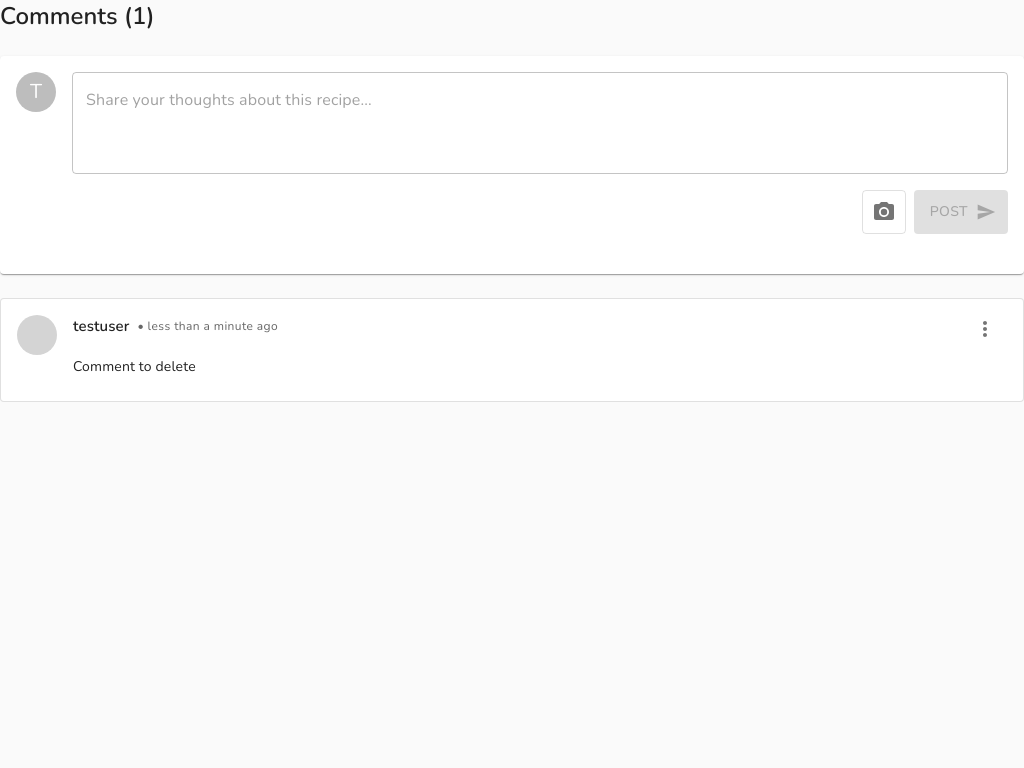
Test: CommentsSection Component › Edit and Delete Comments › should handle delete comment error when response is not ok - lines 223-225
Expected: the text "Comment to delete" is shown, [73,357,196,376]
Click the button without text in the row of "less than a minute ago". click: (985, 329)
box: [963,307,1007,351]
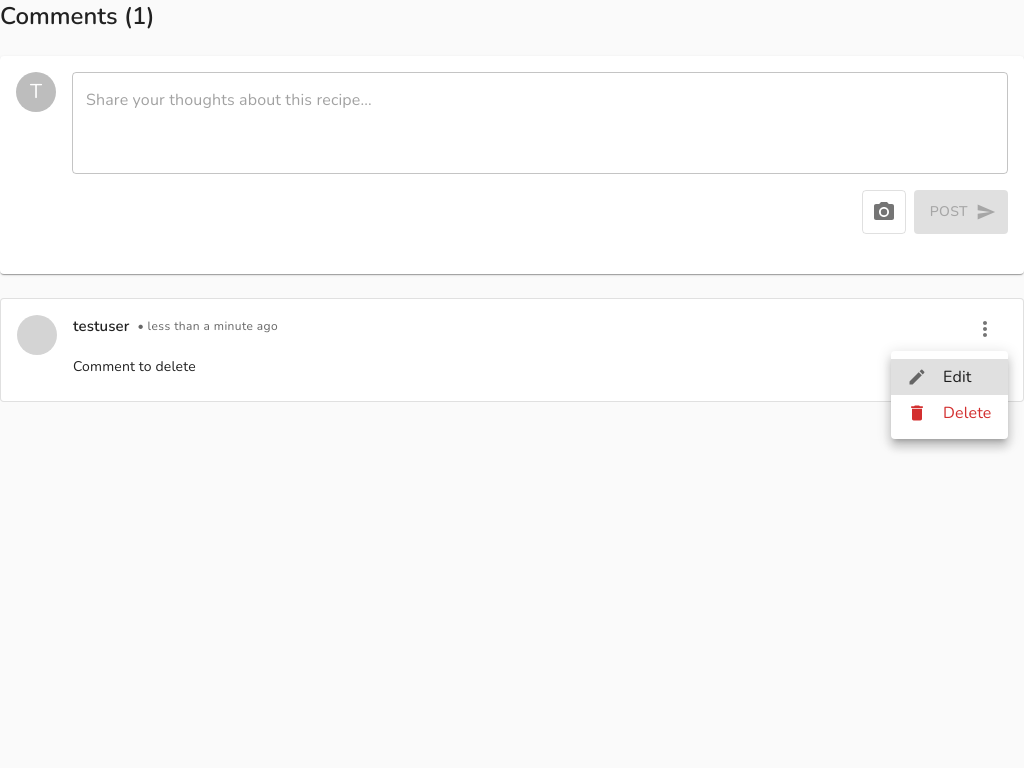
Click the menu item "Delete". click: (949, 413)
box: [907,402,992,424]
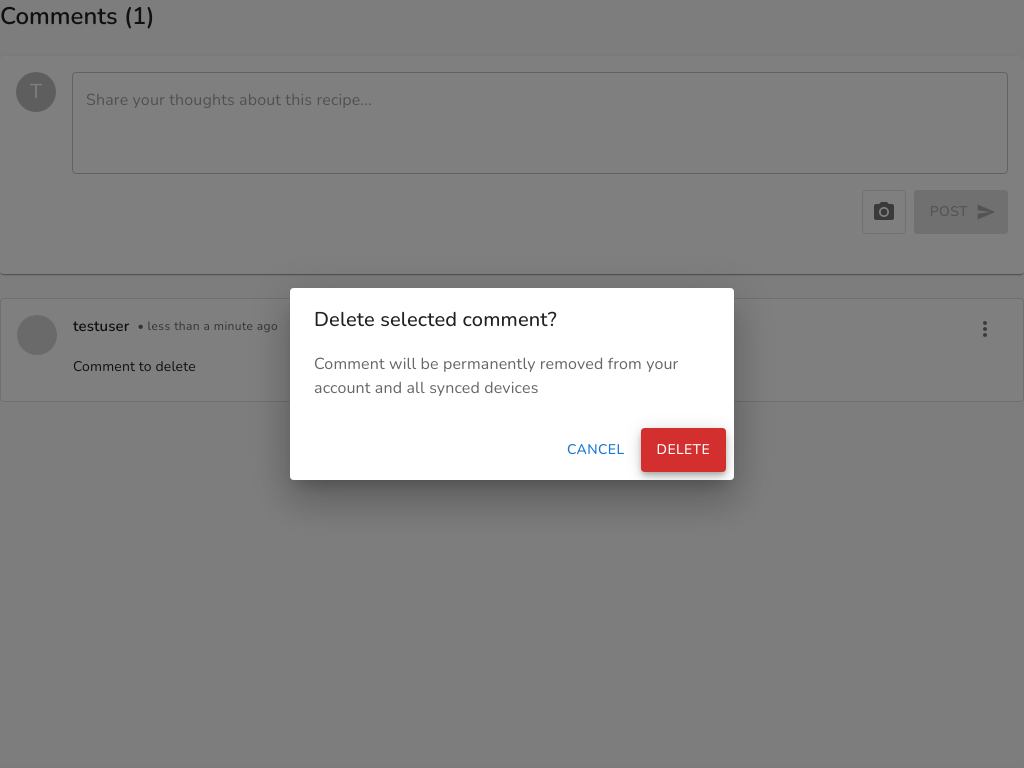
Expected: the heading "Delete selected comment?" is shown, [314,306,557,333]
Click the button "Delete". click: (683, 450)
box: [640,428,726,472]
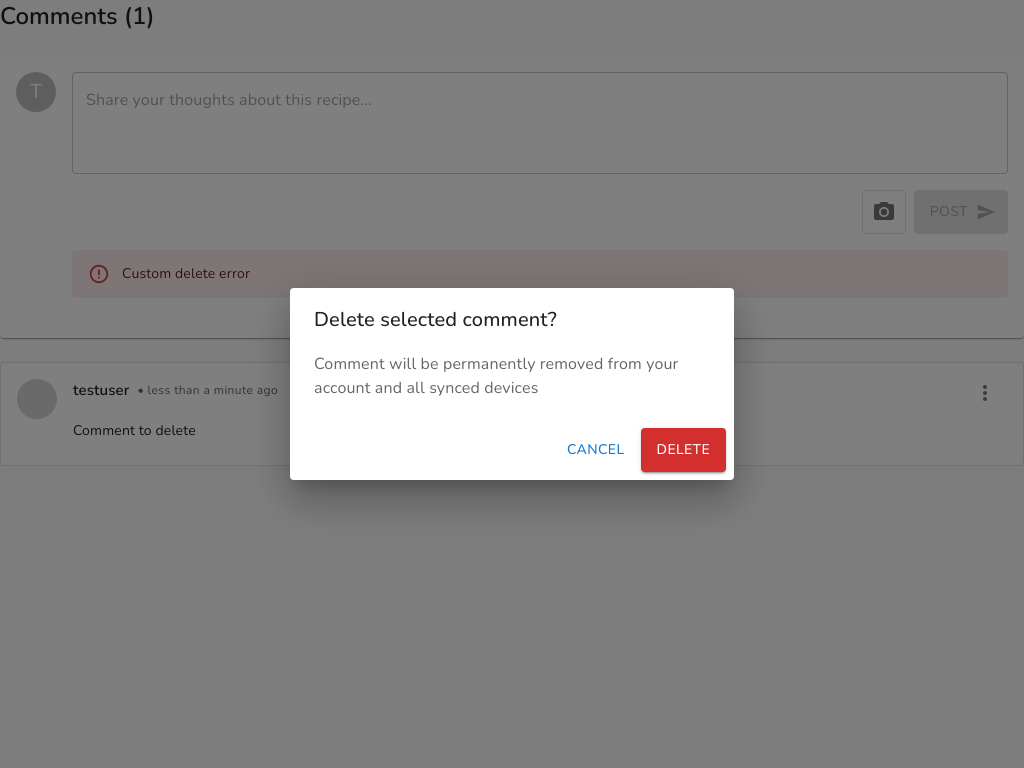
Expected: the text "Custom delete error" is shown, [122,264,250,283]
